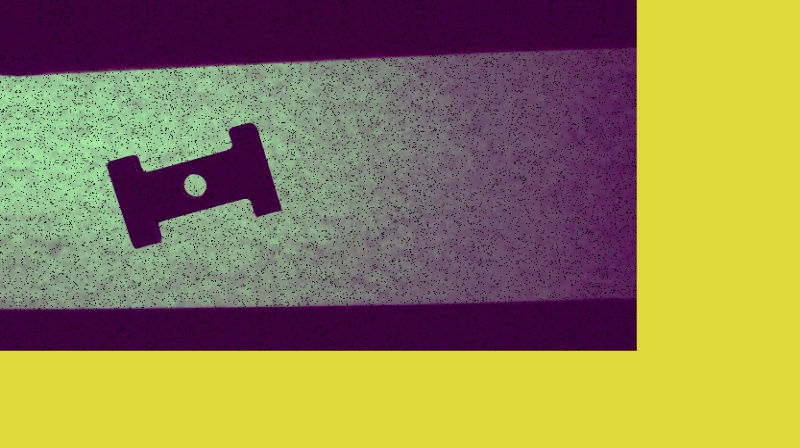O002: (101, 120, 285, 249)
